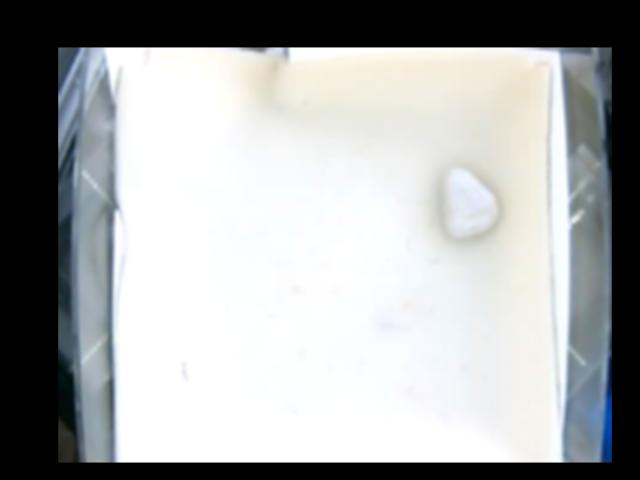Pebble: (441, 168, 503, 239)
